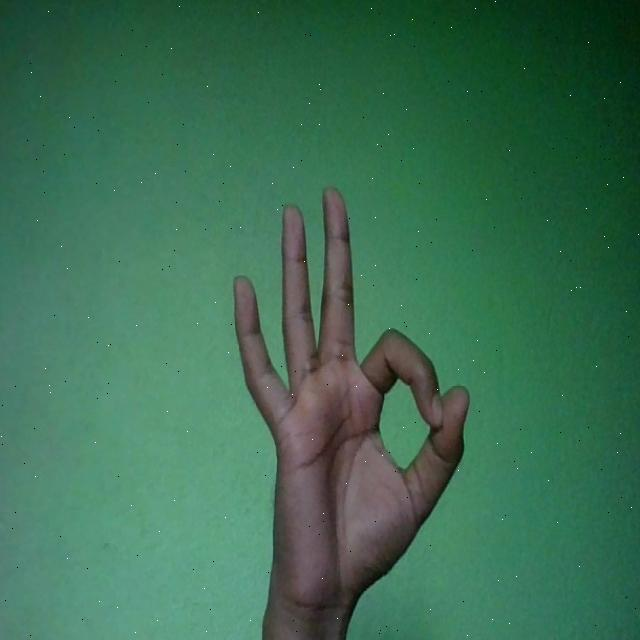Rock On: (233, 186, 470, 620)
